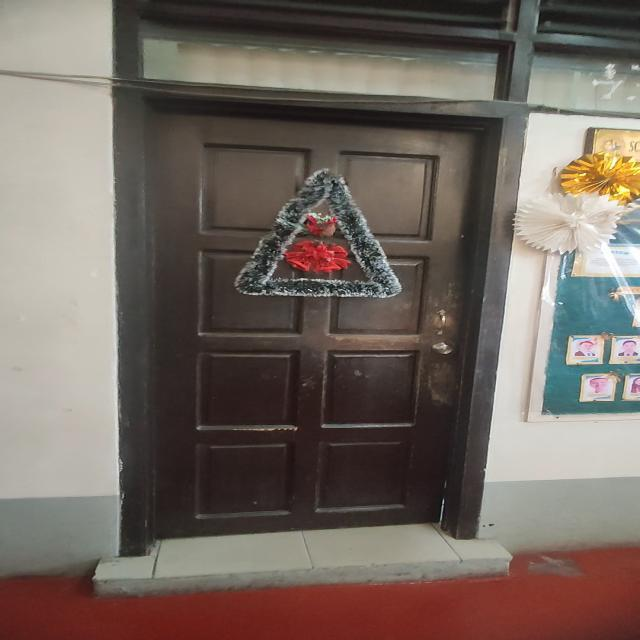door: (121, 103, 493, 565)
